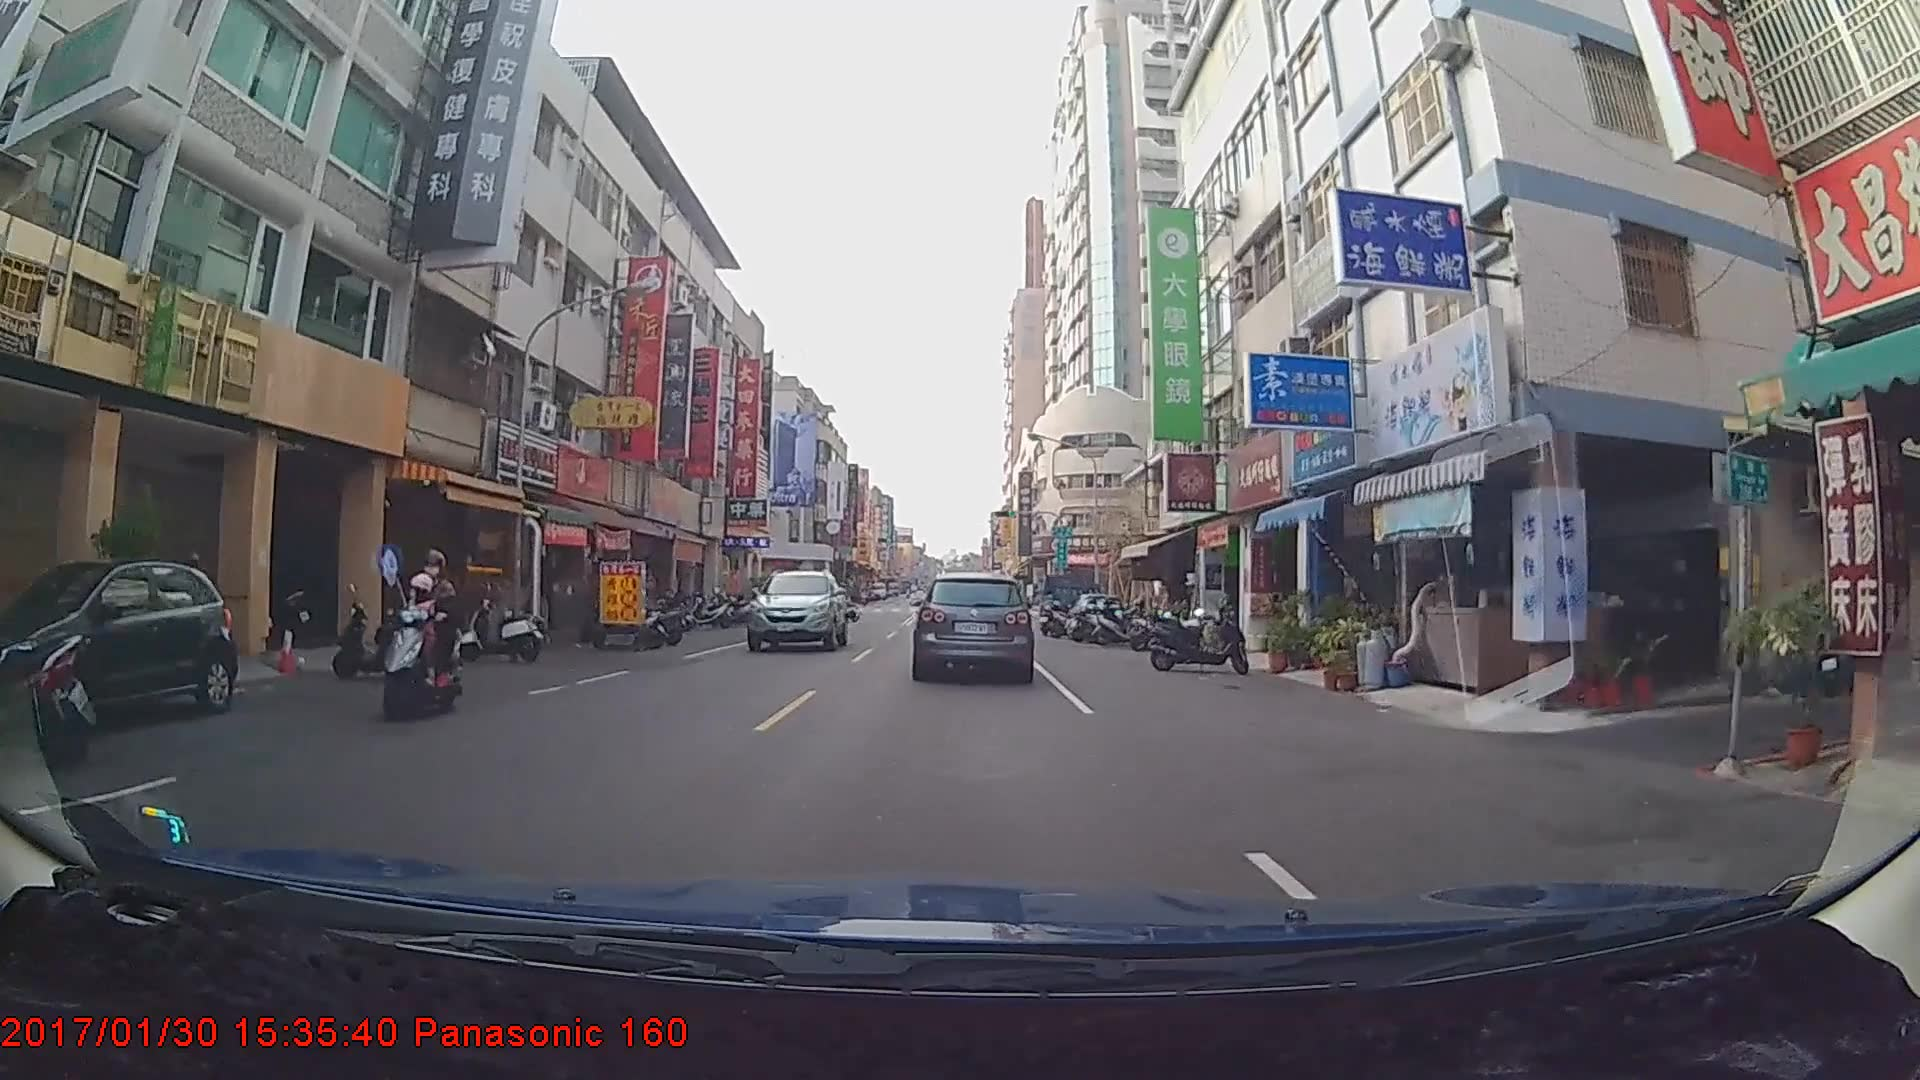rider: (374, 545, 467, 721)
vehicle: (913, 570, 1032, 680), (744, 569, 851, 653), (1038, 573, 1103, 631)
